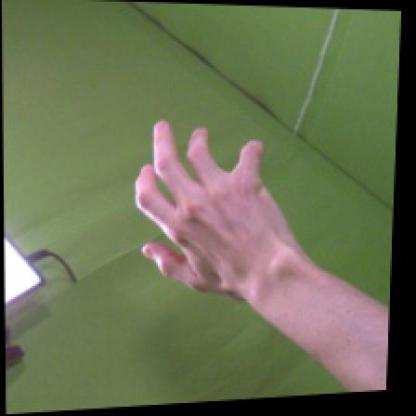Hand: (135, 119, 301, 300)
